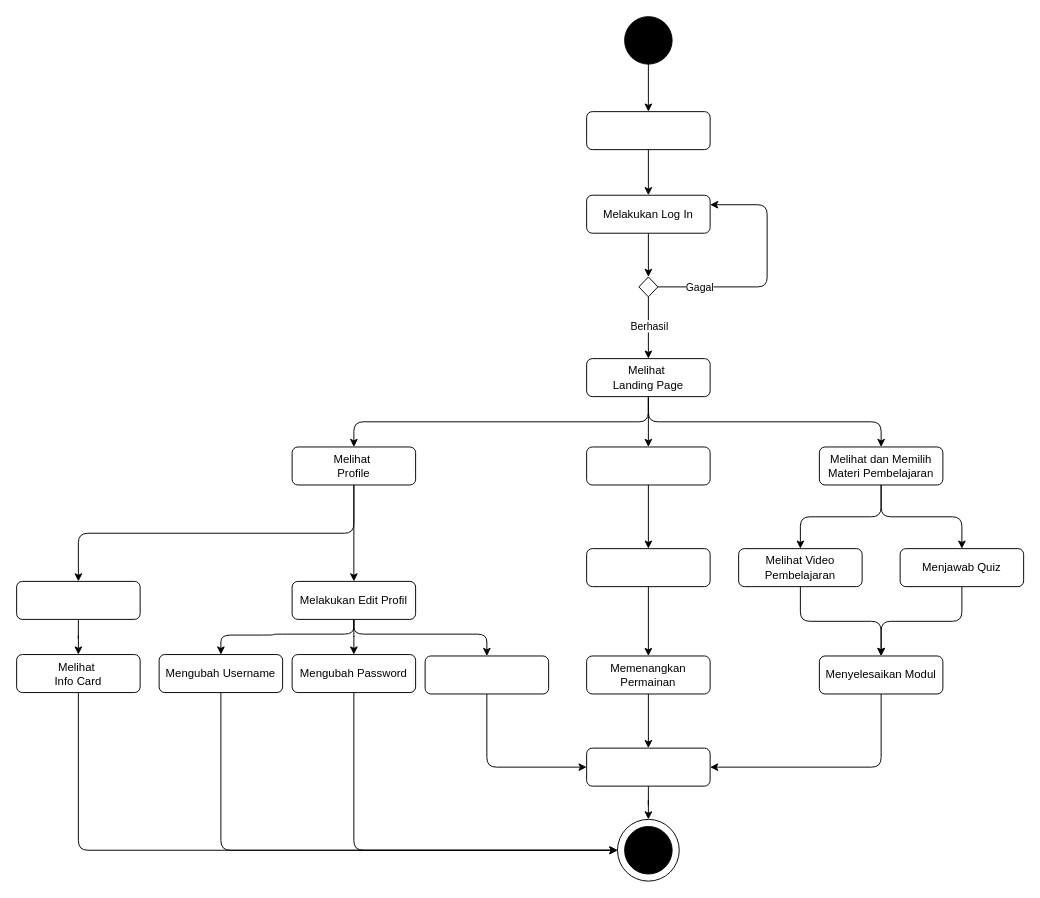
The diagram is 1040 pixels wide and 898 high, and some of its shapes have lost their labels. Here are the shapes that lost their labels. From the top down, the box of each, then its label:
(586, 111, 710, 150): Melakukan Sign Up
(586, 446, 710, 485): Memainkan Game Ular Tangga
(586, 548, 710, 587): Menjawab Challenge
(16, 580, 140, 619): Melihat Card Collection
(424, 655, 549, 694): Mengubah Foto Profil
(586, 747, 710, 786): Meng-unlock Card
